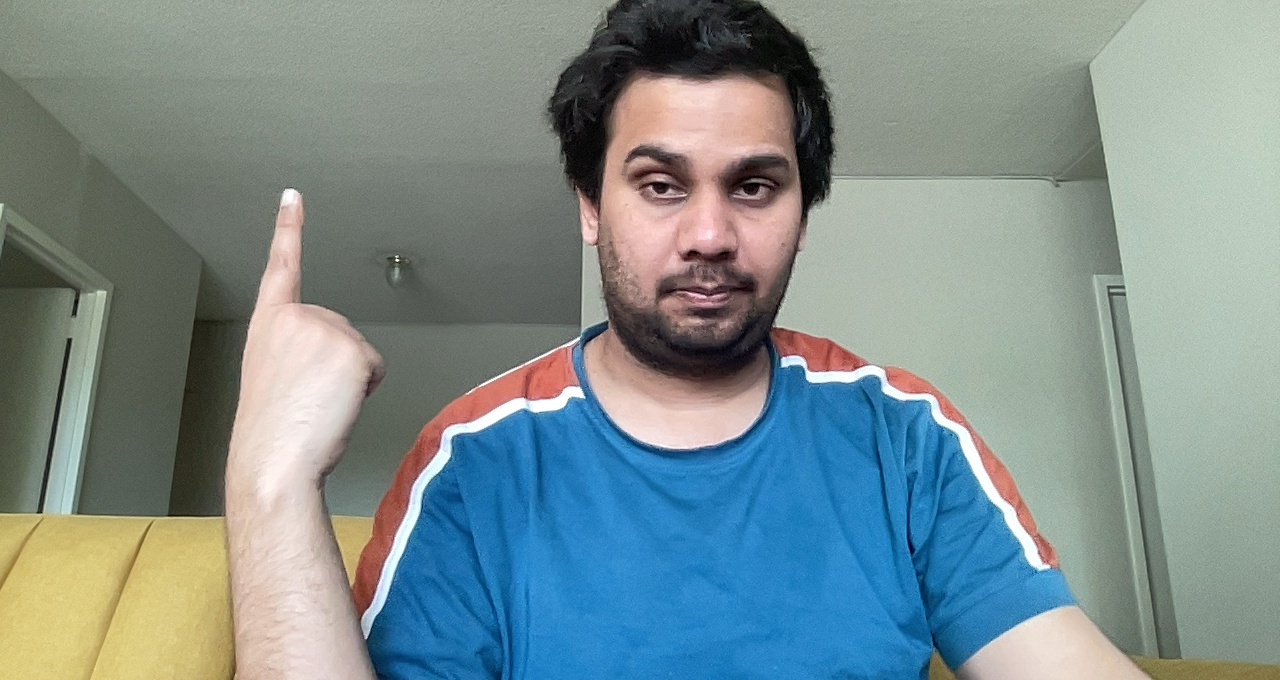fingerup: (234, 186, 390, 501)
